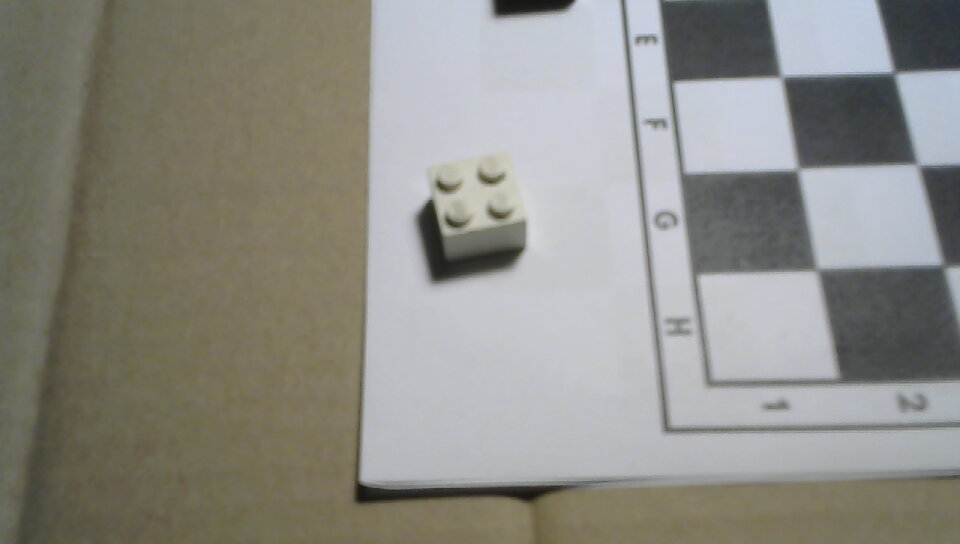wp: (408, 147, 540, 286)
